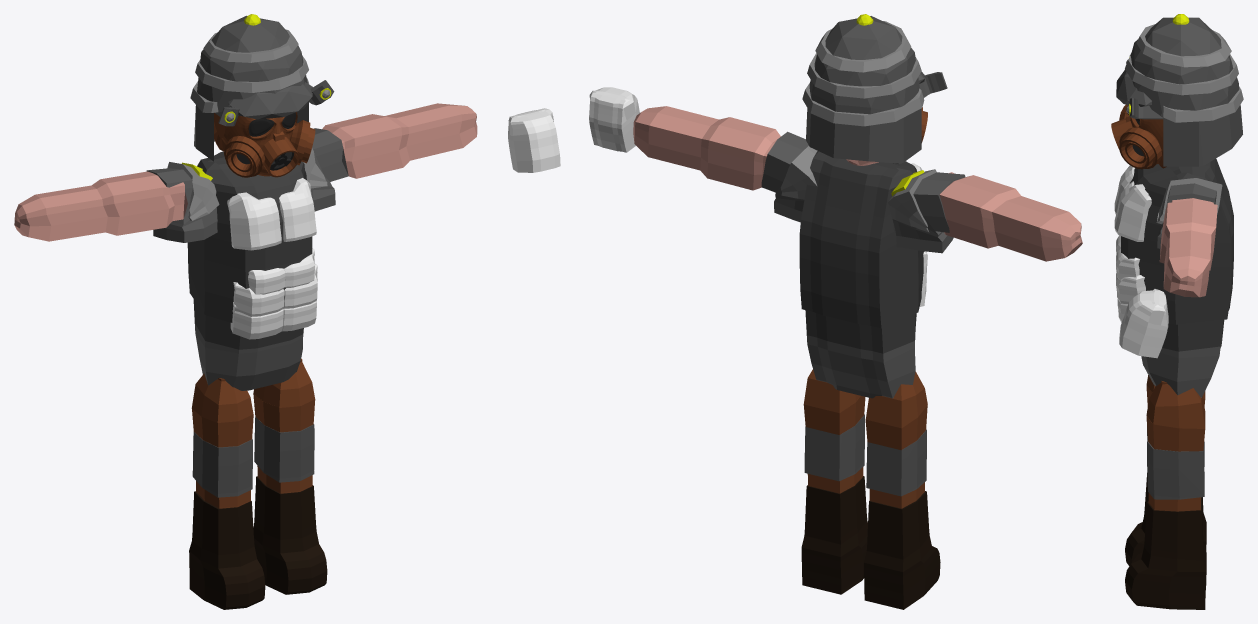
File: blind1.fbx
3 views of the same model, side by side, from view 1: azimuth 30°, elevation 25°; view 2: azimuth 150°, elevation 25°; view 3: azimuth 270°, elevation 25° (orthographic).
Visible parts, largest first — view 1: Head, MiddleSpine, leftarm, leftarm.001, RightFoot, LeftFoot, LeftKnee, RightKnee, Pelvis, Rightelbow, MiddleSpine.004, MiddleSpine.003 (+10 smaller); view 2: MiddleSpine, Head, leftarm, leftarm.001, RightFoot, LeftFoot, RightKnee, LeftKnee, Pelvis, Rightelbow, Leftelbow, MiddleSpine.004 (+2 smaller); view 3: Head, MiddleSpine, LeftFoot, leftarm.001, LeftKnee, MiddleSpine.004, Pelvis, LeftPelvis, MiddleSpine.001, Leftelbow, RightFoot, MiddleSpine.005 (+2 smaller).
Part boxes in pixels (x1,y1,x2,y2): Head: (190,14,334,177); MiddleSpine: (187,151,312,349); leftarm: (14,171,187,241); leftarm.001: (322,103,477,178); RightFoot: (189,491,265,609); LeftFoot: (253,476,327,594); LeftKnee: (253,394,315,493); RightKnee: (192,409,253,508); Pelvis: (194,323,303,390); Rightelbow: (146,162,219,242); MiddleSpine.004: (508,108,560,172); MiddleSpine.003: (227,192,281,250); MiddleSpine: (799,151,924,353); Head: (802,14,947,165); leftarm: (939,172,1082,261); leftarm.001: (633,106,780,190); RightFoot: (864,491,940,609); LeftFoot: (801,476,867,594); RightKnee: (865,405,927,508); LeftKnee: (803,396,865,493); Pelvis: (806,335,915,398); Rightelbow: (888,169,965,253); Leftelbow: (761,131,817,222); MiddleSpine.004: (589,87,639,152); Head: (1111,14,1243,169); MiddleSpine: (1121,158,1233,351); LeftFoot: (1125,497,1206,609); leftarm.001: (1159,198,1217,297); LeftKnee: (1146,416,1205,511); MiddleSpine.004: (1119,289,1168,358); Pelvis: (1141,337,1222,397); LeftPelvis: (1146,381,1205,428); MiddleSpine.001: (1114,181,1151,241); Leftelbow: (1156,178,1222,248); RightFoot: (1125,473,1206,565); MiddleSpine.005: (1116,272,1145,303).
Bounding box in the file's own units: 1658 × 1775 × 373.
